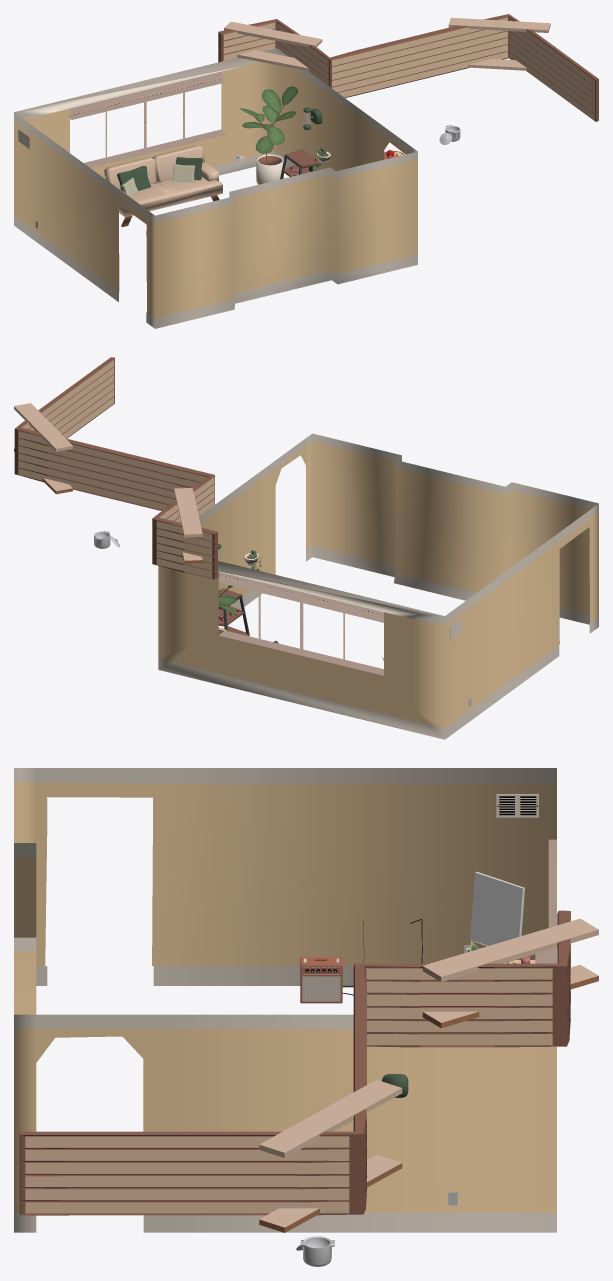
File: InsideHouseStuff.glb
The picture shows the model from 3 angles, top to bottom: view 1: azimuth 30°, elevation 25°; view 2: azimuth 150°, elevation 25°; view 3: azimuth 270°, elevation 25°; orthographic projection. The views are drawn at different scales.
Visible parts, largest first — view 1: Walls, Cube.436, Cube.417, Cube.413, Cube.428, pot, Cube.438, Cube.024, Cube.418, Cube.414; view 2: Walls, Cube.436, Cube.413, Cube.428; view 3: Walls, Cube.436, Cube.428, Cube.413, canvas, OrangeAmp, Cube.414, Cube.438, vent, Cylinder.024.
Boxes of the visible parts, left/top/right/bottom form: Walls: left=14, top=48, right=417, bottom=328; Cube.436: left=218, top=14, right=598, bottom=121; Cube.417: left=104, top=145, right=222, bottom=226; Cube.413: left=448, top=17, right=550, bottom=32; Cube.428: left=224, top=21, right=322, bottom=47; pot: left=256, top=154, right=283, bottom=184; Cube.438: left=237, top=50, right=308, bottom=71; Cube.024: left=280, top=149, right=321, bottom=179; Cube.418: left=117, top=166, right=150, bottom=191; Cube.414: left=468, top=59, right=526, bottom=70; Walls: left=158, top=433, right=598, bottom=739; Cube.436: left=14, top=357, right=217, bottom=579; Cube.413: left=14, top=403, right=72, bottom=451; Cube.428: left=174, top=487, right=202, bottom=537; Walls: left=14, top=768, right=556, bottom=1232; Cube.436: left=19, top=910, right=570, bottom=1215; Cube.428: left=422, top=918, right=598, bottom=982; Cube.413: left=259, top=1079, right=402, bottom=1157; canvas: left=470, top=872, right=524, bottom=945; OrangeAmp: left=300, top=957, right=342, bottom=1003; Cube.414: left=259, top=1154, right=402, bottom=1232; Cube.438: left=422, top=964, right=598, bottom=1028; vent: left=496, top=794, right=538, bottom=817; Cylinder.024: left=300, top=1236, right=334, bottom=1266.
Bounding box in the file's own units: 10.71 × 3.17 × 6.05.
7 materials, 6 textured.
